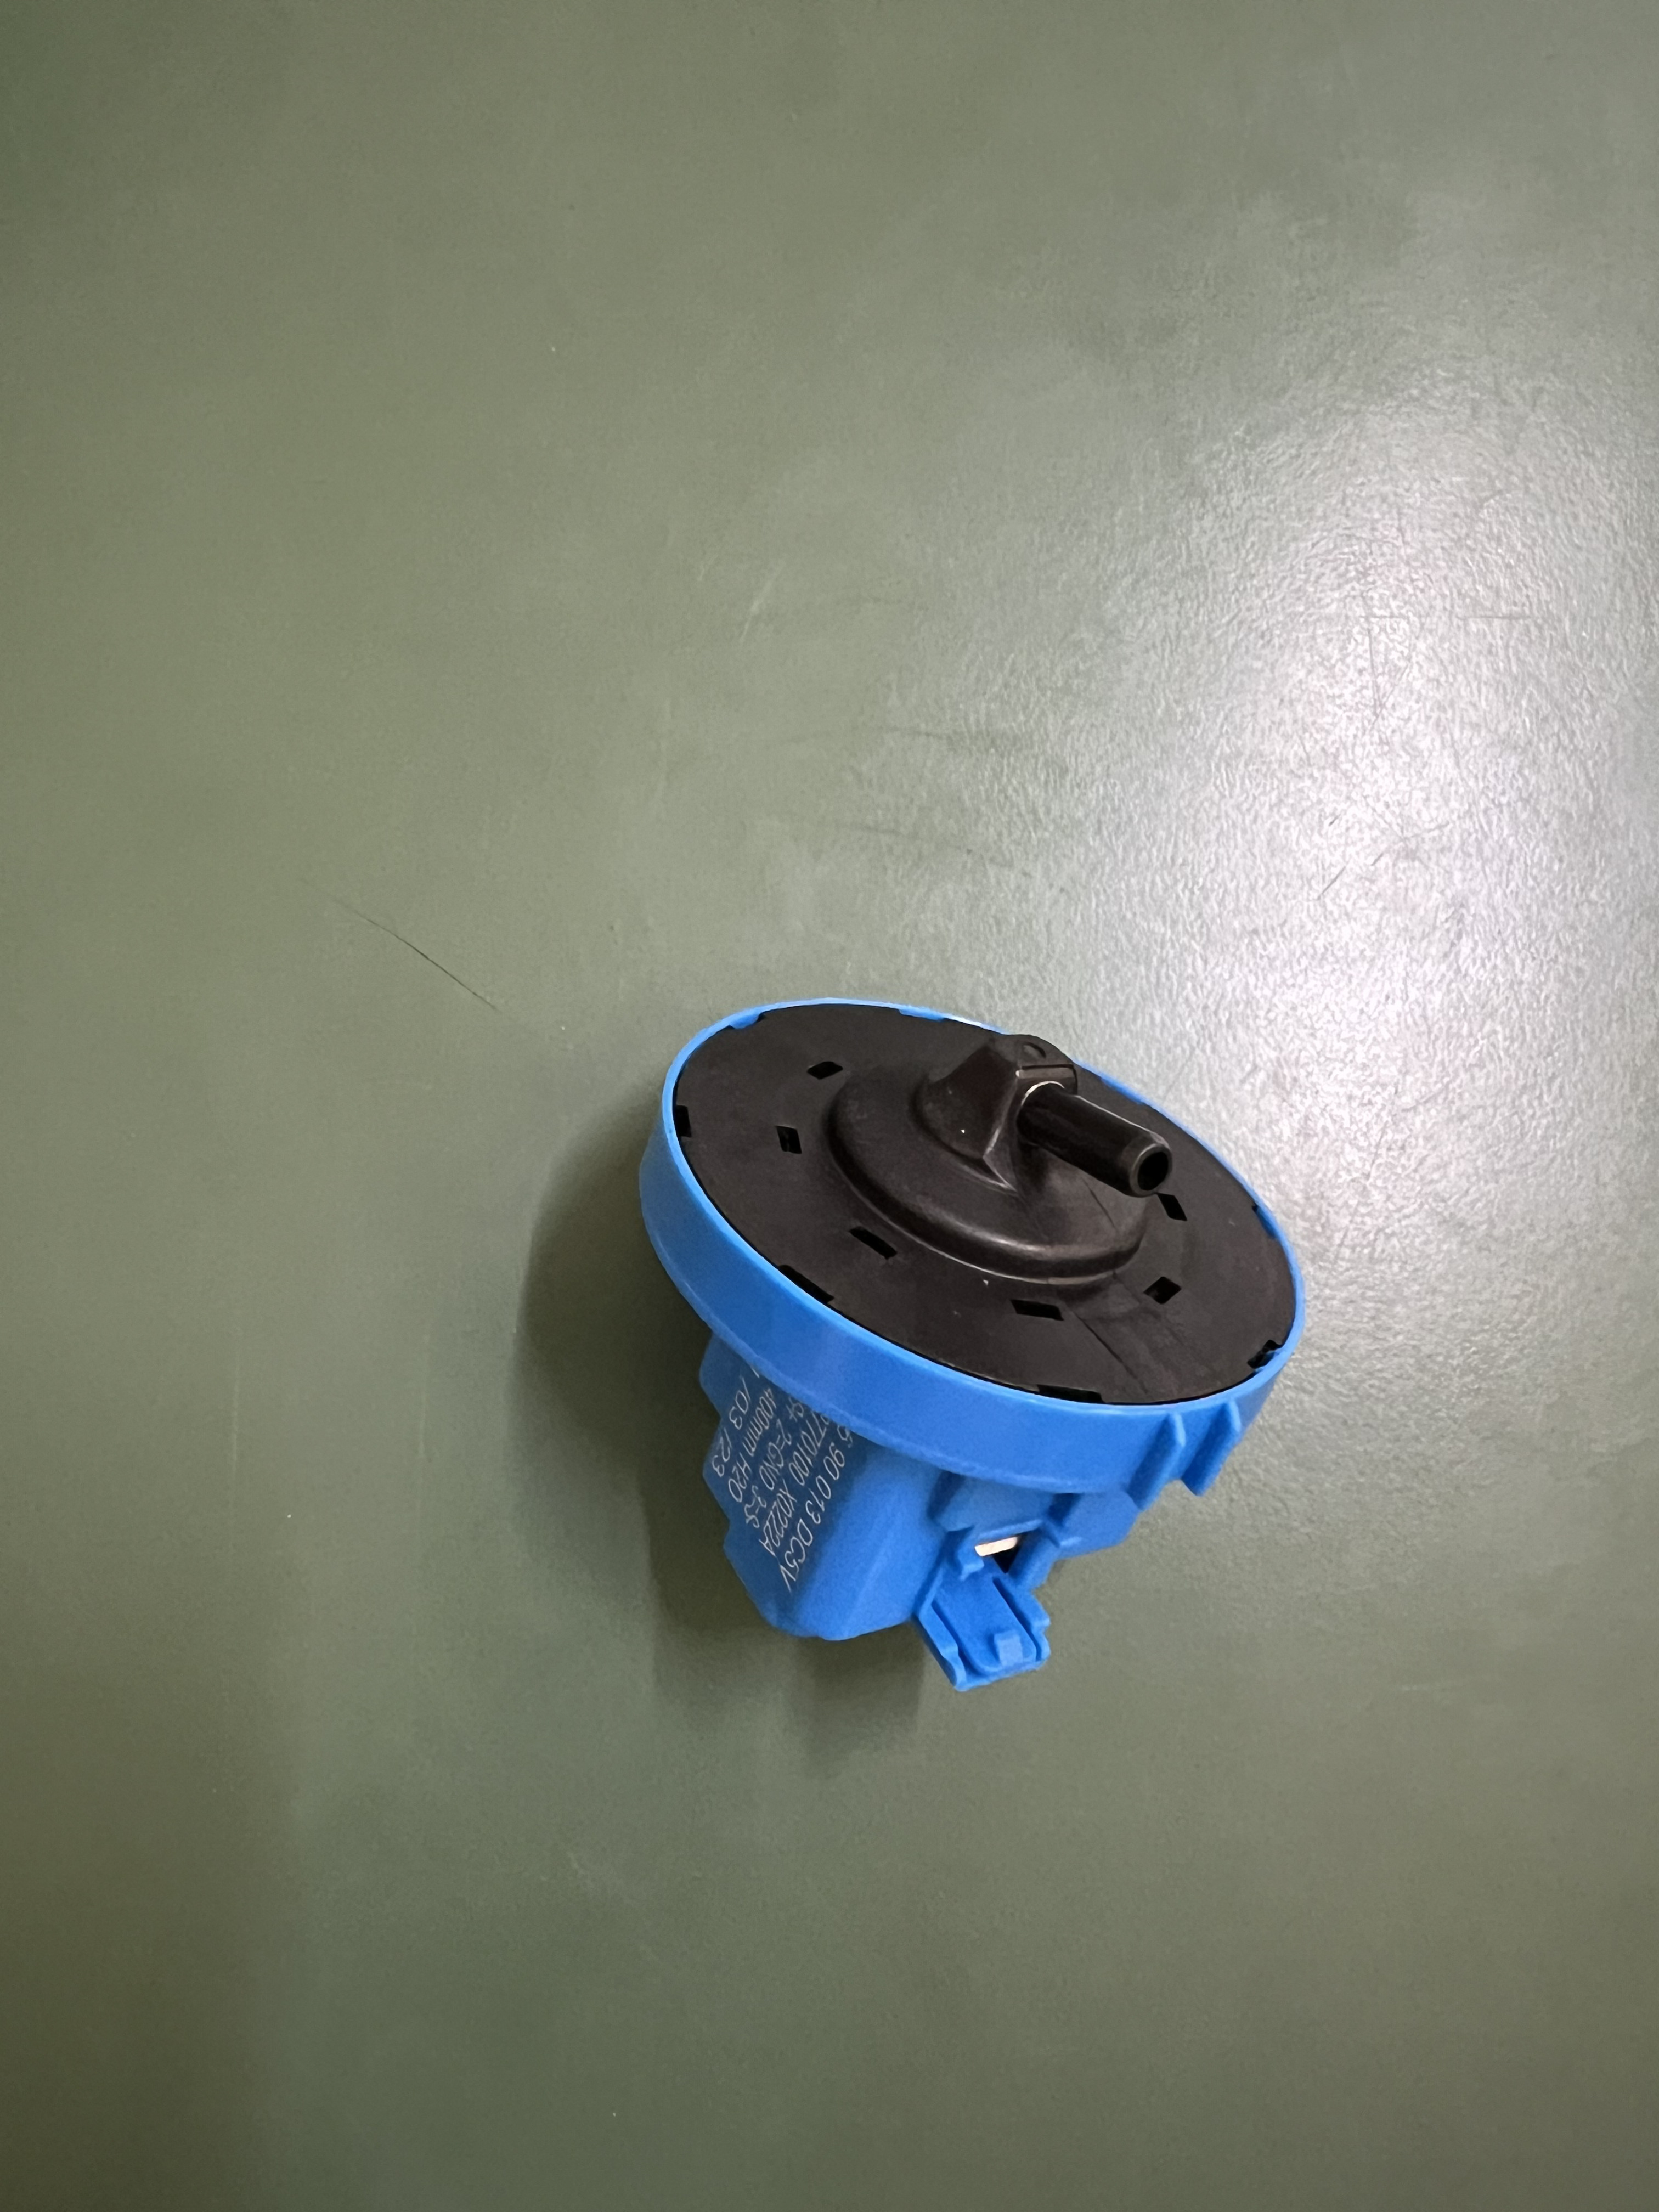voltas_beko_pressure_switch: (559, 902, 1349, 1723)
